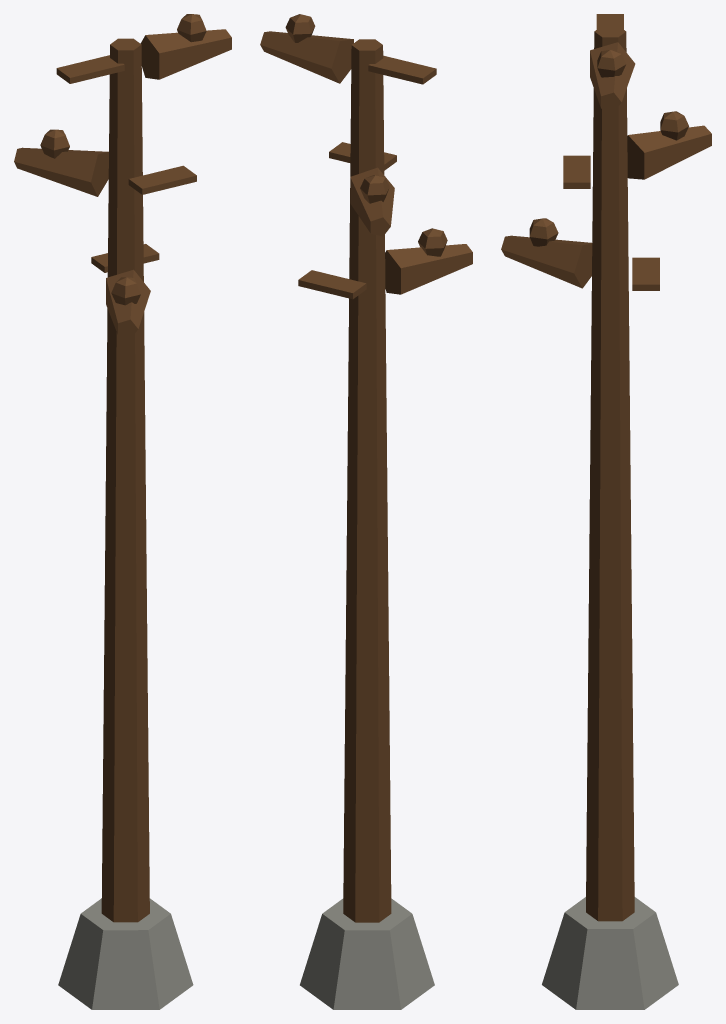
File: prop_sotdae.obj
3 renders of one model, left to right at view 1: azimuth 30°, elevation 25°; view 2: azimuth 150°, elevation 25°; view 3: azimuth 270°, elevation 25°, orthographic.
Parts seen in each view (by area): view 1: prop_sotdae_0_0, prop_sotdae_0_1; view 2: prop_sotdae_0_0, prop_sotdae_0_1; view 3: prop_sotdae_0_0, prop_sotdae_0_1.
Part boxes in pixels (box(x1,y1,x2,y2)): prop_sotdae_0_0: box(14, 14, 231, 922); prop_sotdae_0_1: box(58, 898, 193, 1009); prop_sotdae_0_0: box(260, 14, 472, 922); prop_sotdae_0_1: box(300, 898, 434, 1009); prop_sotdae_0_0: box(501, 14, 711, 921); prop_sotdae_0_1: box(542, 897, 678, 1009).
Bounding box in the file's own units: 0.8664 × 4.67 × 0.922.
